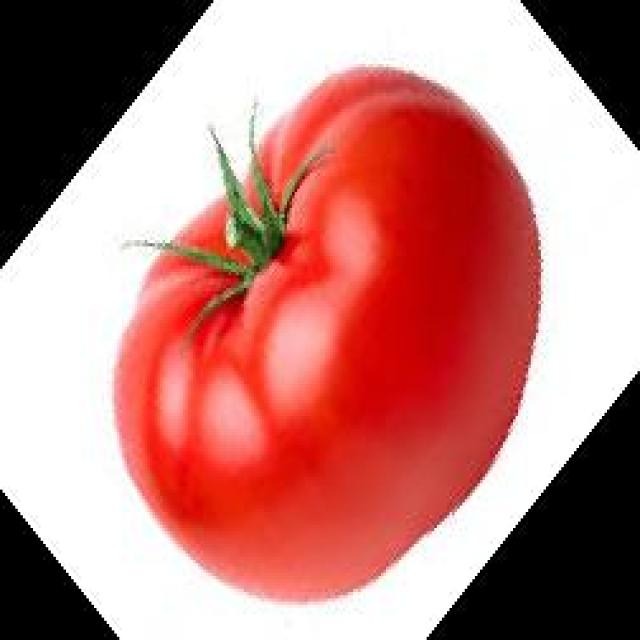Tomato: (107, 63, 541, 610)
